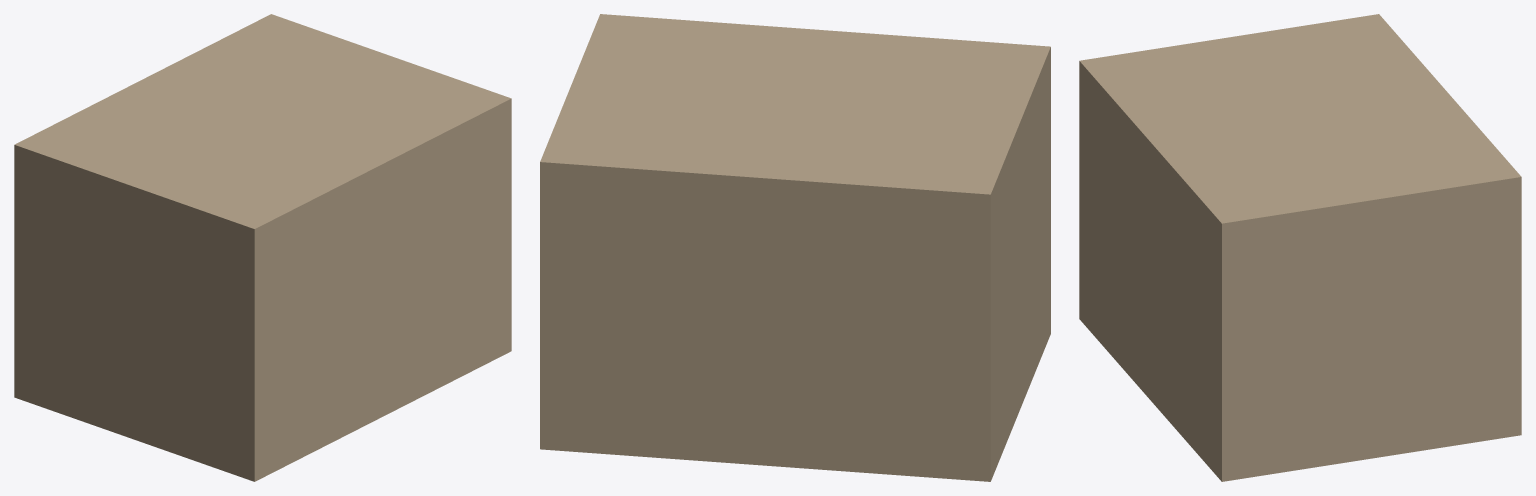
File: bld_101524478.dae
3 views of the same model, side by side, from view 1: azimuth 30°, elevation 25°; view 2: azimuth 150°, elevation 25°; view 3: azimuth 270°, elevation 25° (orthographic). The views are drawn at different scales.
Parts seen in each view (by area): view 1: bld_101524478; view 2: bld_101524478; view 3: bld_101524478.
Boxes of the visible parts, box(x1,y1,x2,y2) form: bld_101524478: box(14, 14, 511, 481); bld_101524478: box(540, 14, 1050, 481); bld_101524478: box(1079, 14, 1521, 481).
Size of the model in its own units: 13.93 by 12.41 by 8.
